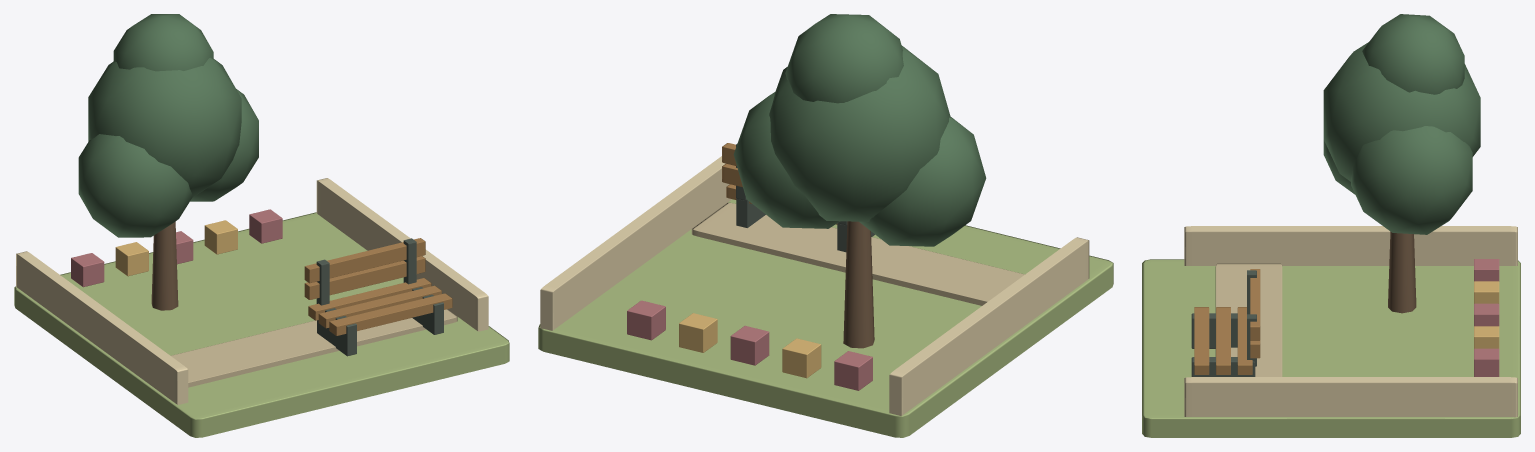
Rendered from park-2.glb.
3 renders of one model, left to right at view 1: azimuth 30°, elevation 25°; view 2: azimuth 150°, elevation 25°; view 3: azimuth 270°, elevation 25°, orthographic. The views are drawn at different scales.
Visible parts, largest first — view 1: park-2-0; view 2: park-2-0; view 3: park-2-0.
Boxes of the visible parts, x1,y1,x2,y2 form: park-2-0: (14,14,509,437); park-2-0: (538,14,1113,437); park-2-0: (1142,14,1520,437).
Bounding box in the file's own units: 1.93 × 1.75 × 1.93.
